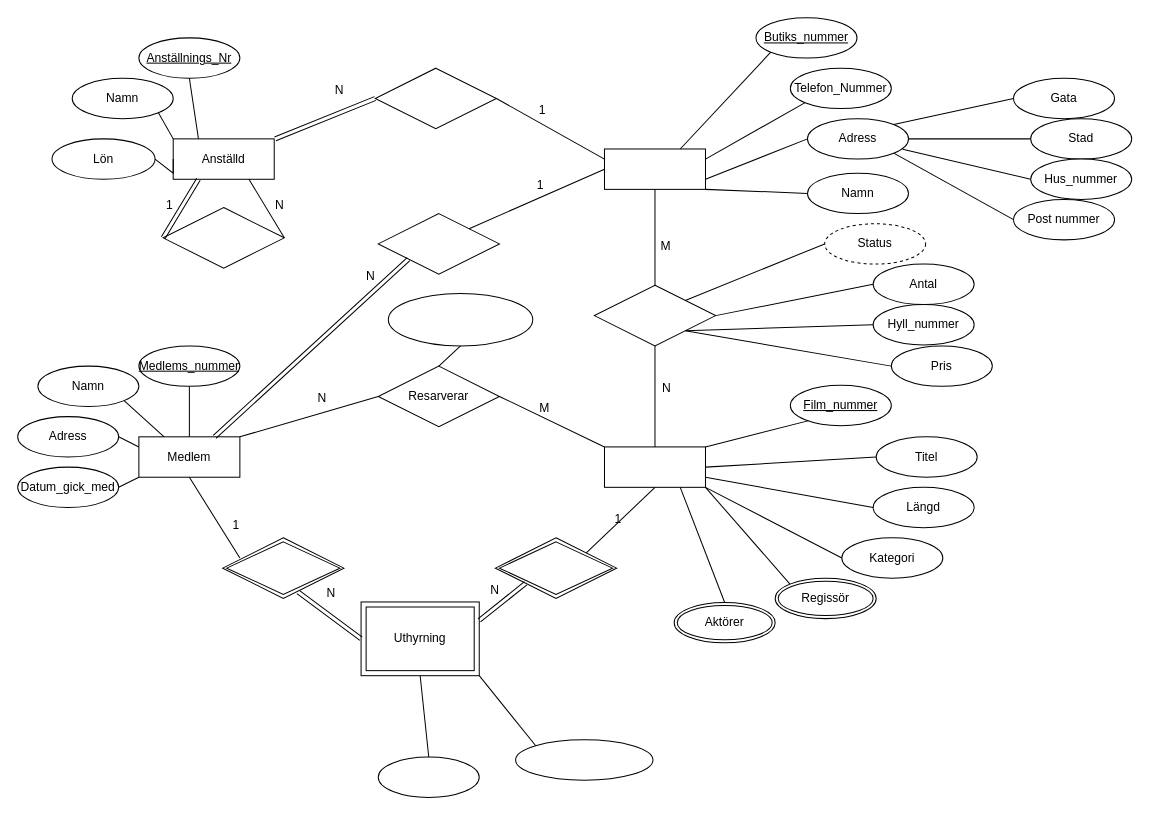
This 1149x815 diagram has some shape labels left out. Here are the shapes that lost their labels. From the top down, the centre of each, then its label:
point (435, 98): Arbetar
point (654, 168): Butik
point (223, 237): Chef
point (438, 243): Medlem_I
point (460, 319): Senast_vill_ha_Daturm
point (654, 315): Har
point (654, 466): Film
point (283, 567): Vem
point (555, 567): Vad
point (428, 776): Hyr_datum
point (584, 759): Återlämnings_Datum
